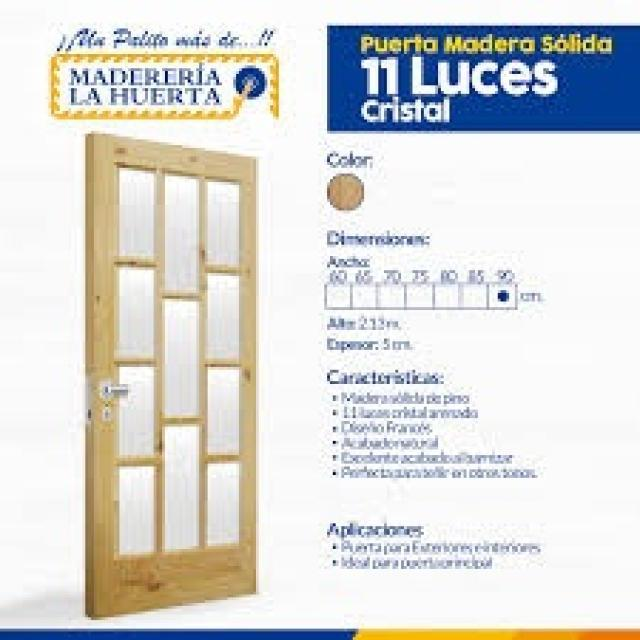door: (84, 130, 260, 618)
